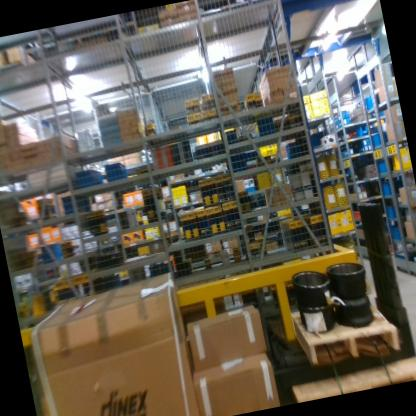pallet: (284, 283, 404, 371), (283, 327, 416, 401)
